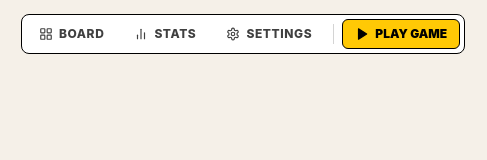
Test case: TopNav Component › toggles to Pause Game with active countdown when clicked
The image size is (487, 160).
Click the button "Play Game": (401, 34) x1=342 y1=19 x2=460 y2=49
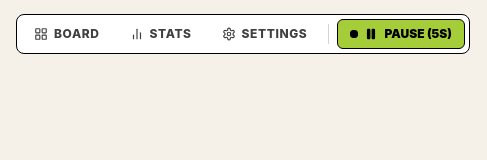
Result: the button "Pause (5s)" is shown
Note: Click again to pause
Click the button "Pause (5s)": (401, 34) x1=337 y1=19 x2=465 y2=49
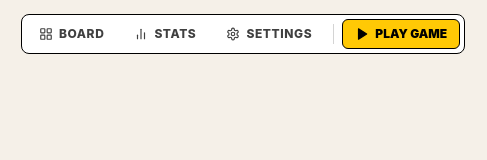
Result: the button "Play Game" is shown at x1=342 y1=19 x2=460 y2=49
